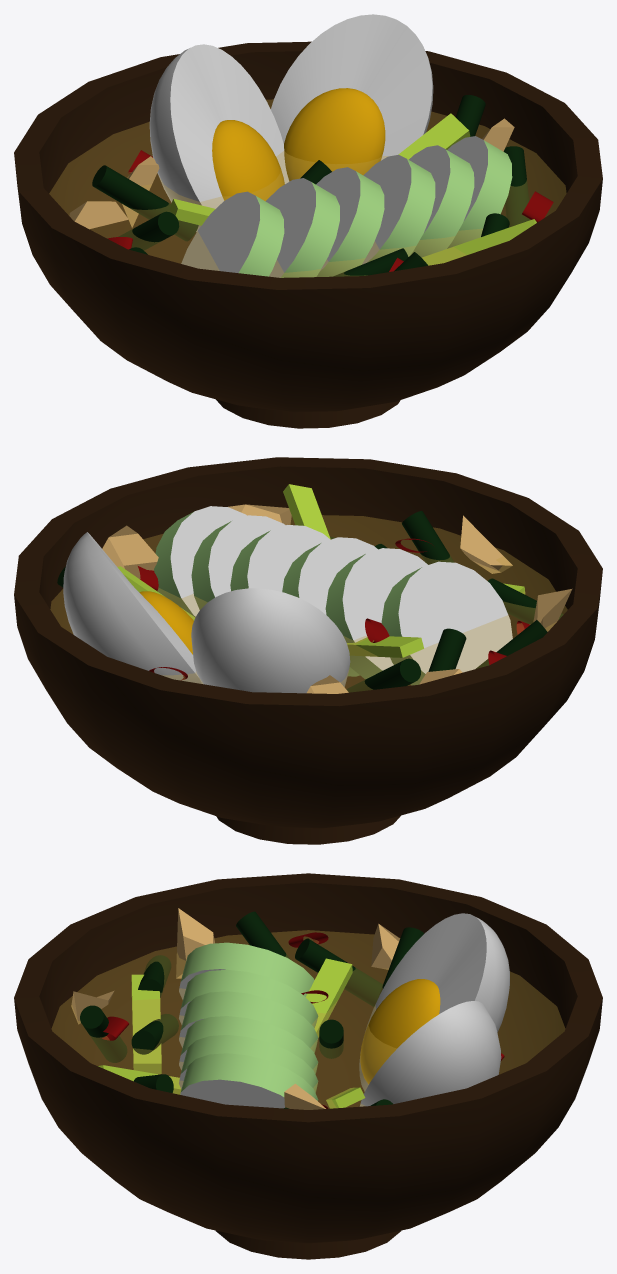
Rendered from Lontong.dae.
3 views of the same model, one above another, from view 1: azimuth 30°, elevation 25°; view 2: azimuth 150°, elevation 25°; view 3: azimuth 270°, elevation 25° (orthographic).
Visible parts, largest first — view 1: pCylinder4; view 2: pCylinder4; view 3: pCylinder4.
Part boxes in pixels (x1,y1,x2,y2): pCylinder4: (14,14,602,428); pCylinder4: (14,457,602,844); pCylinder4: (14,873,602,1259).
Size of the model in its own units: 2.19 by 1.21 by 2.19.
